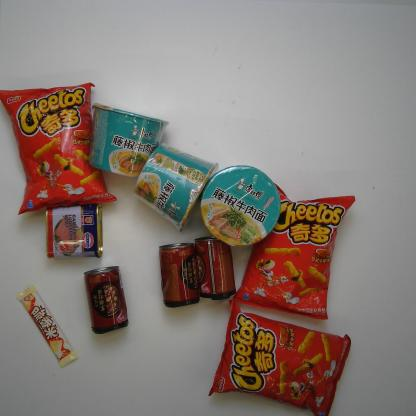Canned Food: (39, 199, 105, 264), (79, 263, 134, 339), (191, 232, 239, 303), (154, 240, 202, 310)
Chocolate: (12, 283, 81, 372)
Instant Noodles: (131, 140, 220, 235), (196, 161, 282, 249), (84, 100, 172, 180)
Puffed Food: (206, 293, 352, 416), (230, 180, 358, 320), (0, 80, 122, 218)
